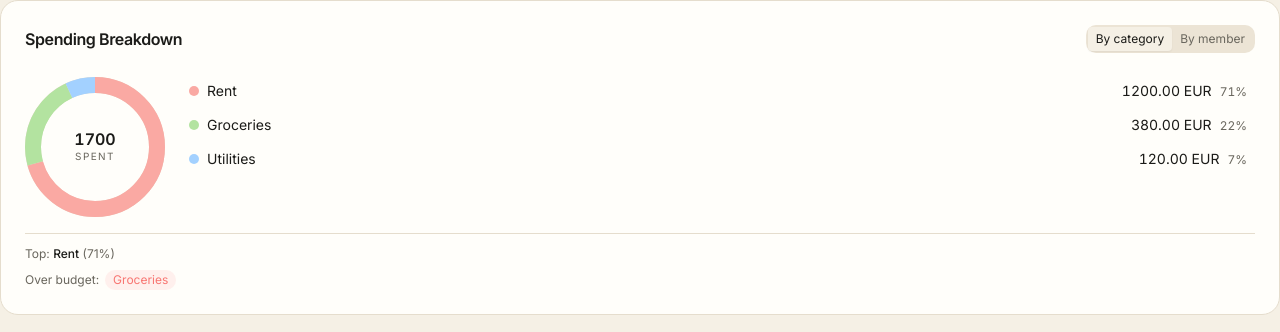
it: <SpendingBreakdownCard /> › byMember toggle › returns to category view when "By category" is clicked again
Click the button with test id "breakdown-mode-member": {"x": 1213, "y": 39} [1172,27,1253,51]
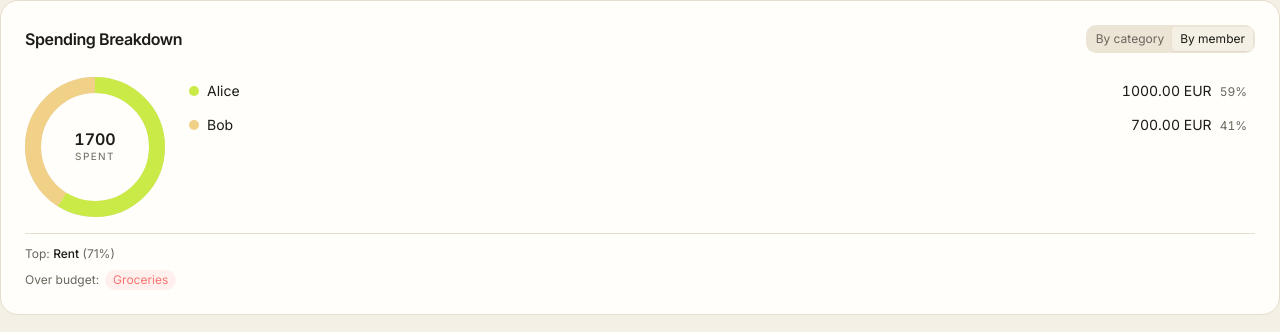
Expected: the button with test id "legend-row-member-m1" is shown, [181,77,1255,105]
Click the button with test id "breakdown-mode-category": {"x": 1130, "y": 39} [1088,27,1172,51]
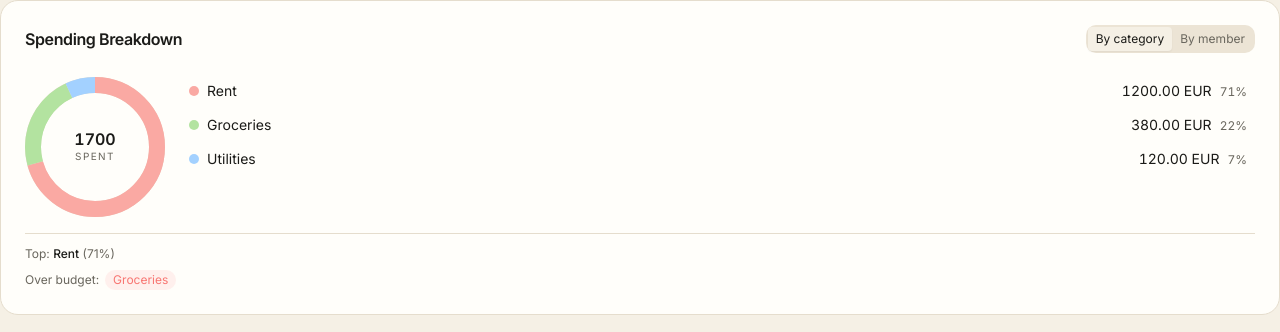
Expected: the button with test id "legend-row-rent" is shown, [181,77,1255,105]
Expected: the button with test id "legend-row-member-m1" is gone
